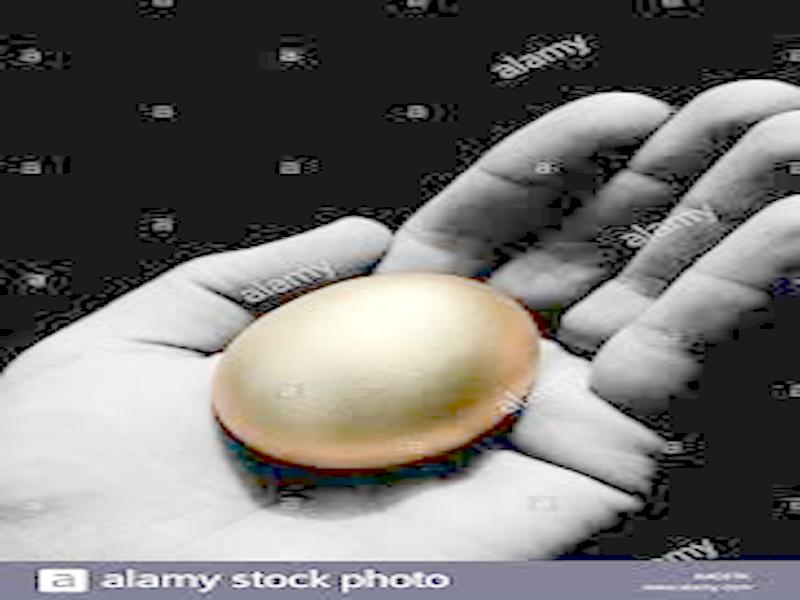Eggs: (215, 273, 541, 464)
